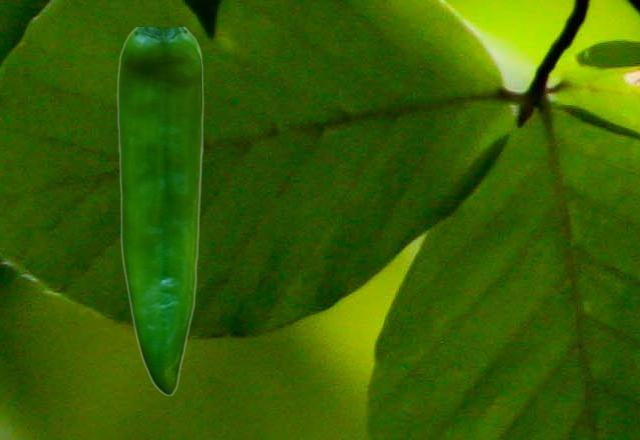green_chili: (116, 27, 203, 394)
